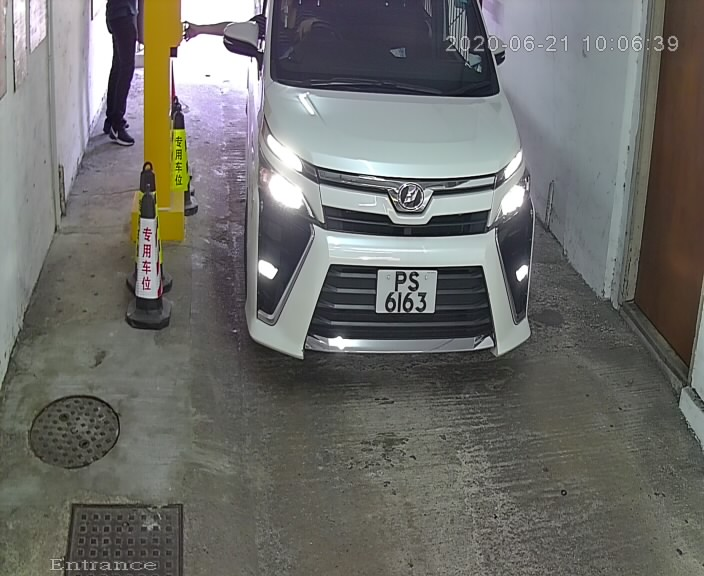privatecar: (213, 2, 554, 389)
